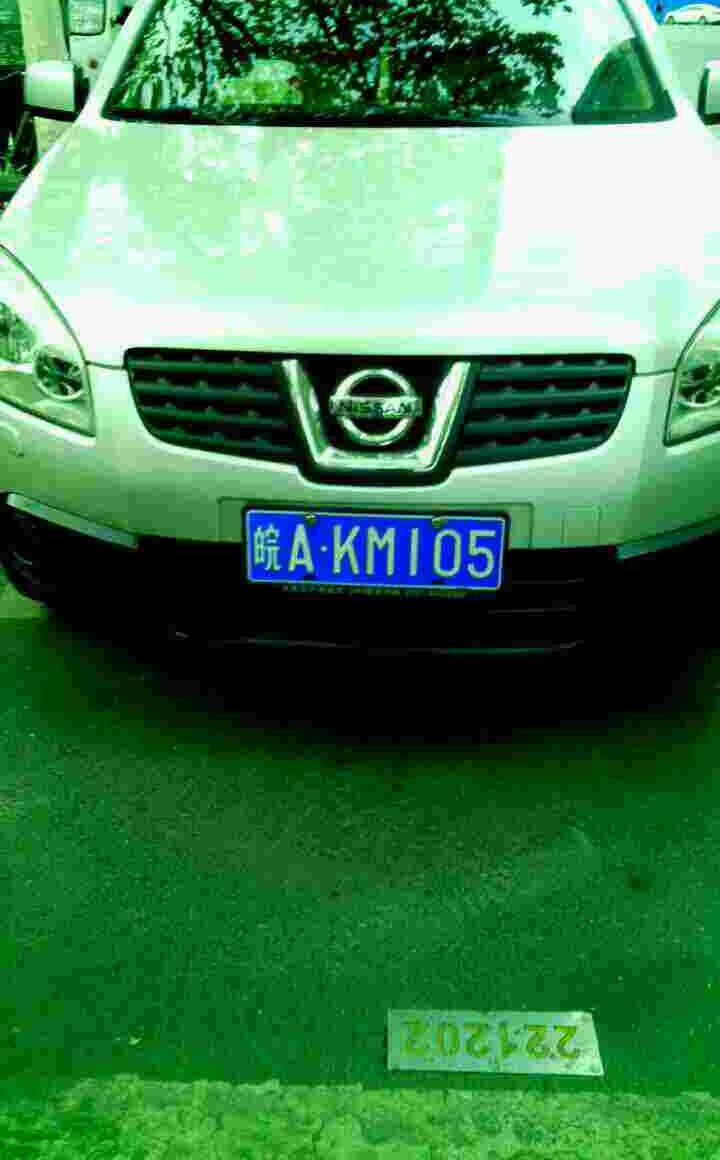license_plate: (243, 498, 513, 604)
